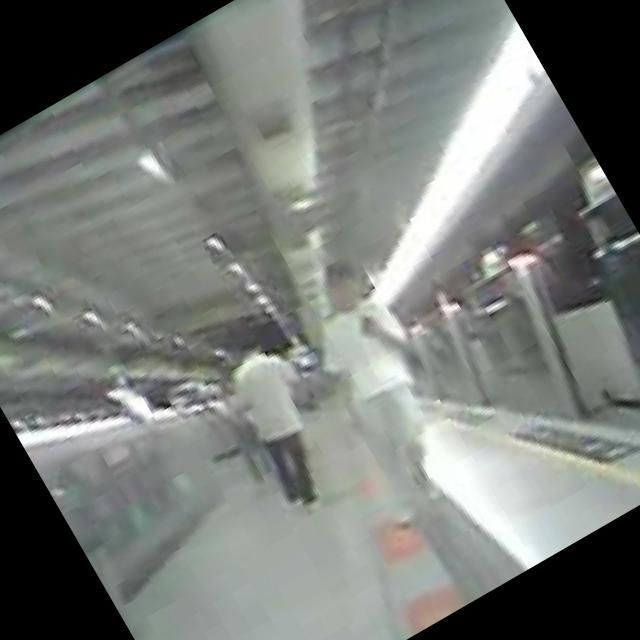person: (276, 248, 488, 521), (200, 321, 362, 518)
